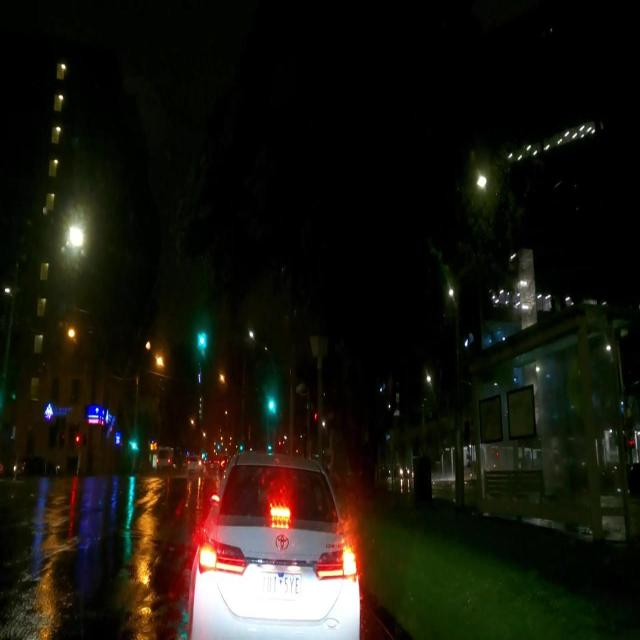Car: (189, 454, 360, 639)
